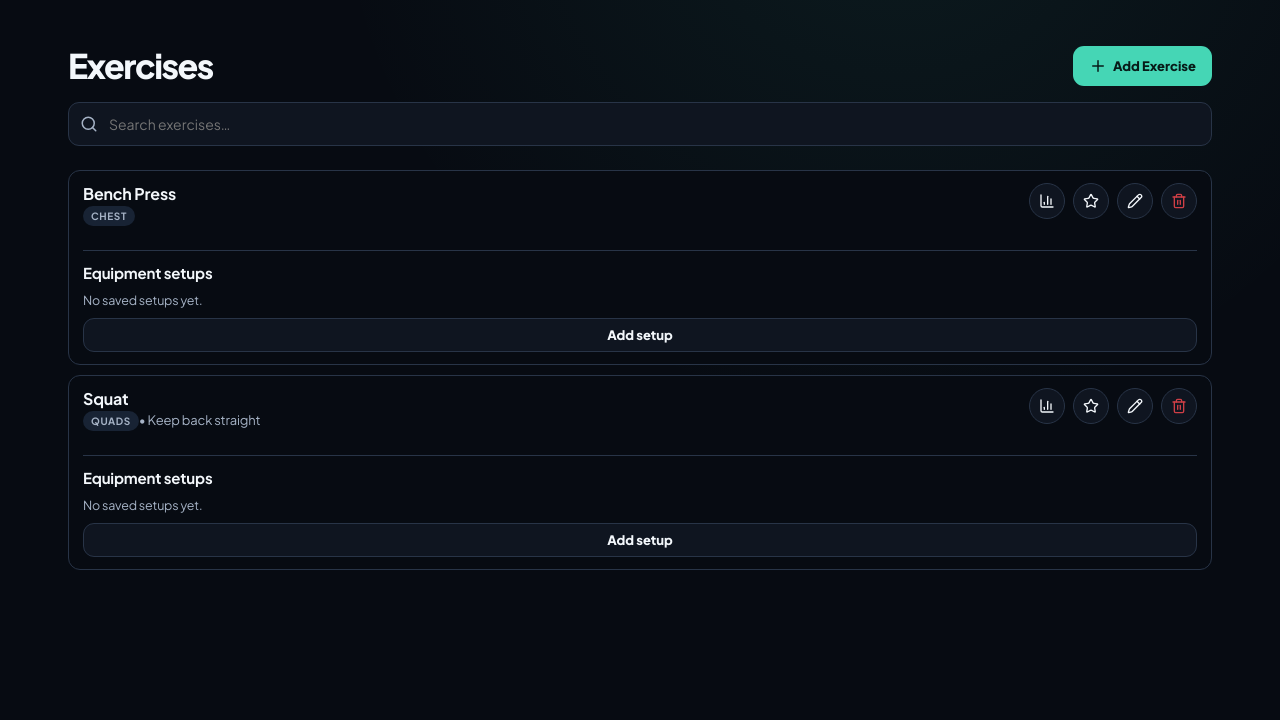
it: Exercises page › opens delete confirmation modal
Step 1. Click the button titled "Delete" in the row of "Bench Press" → (1179, 201), box [1161,183,1197,219]
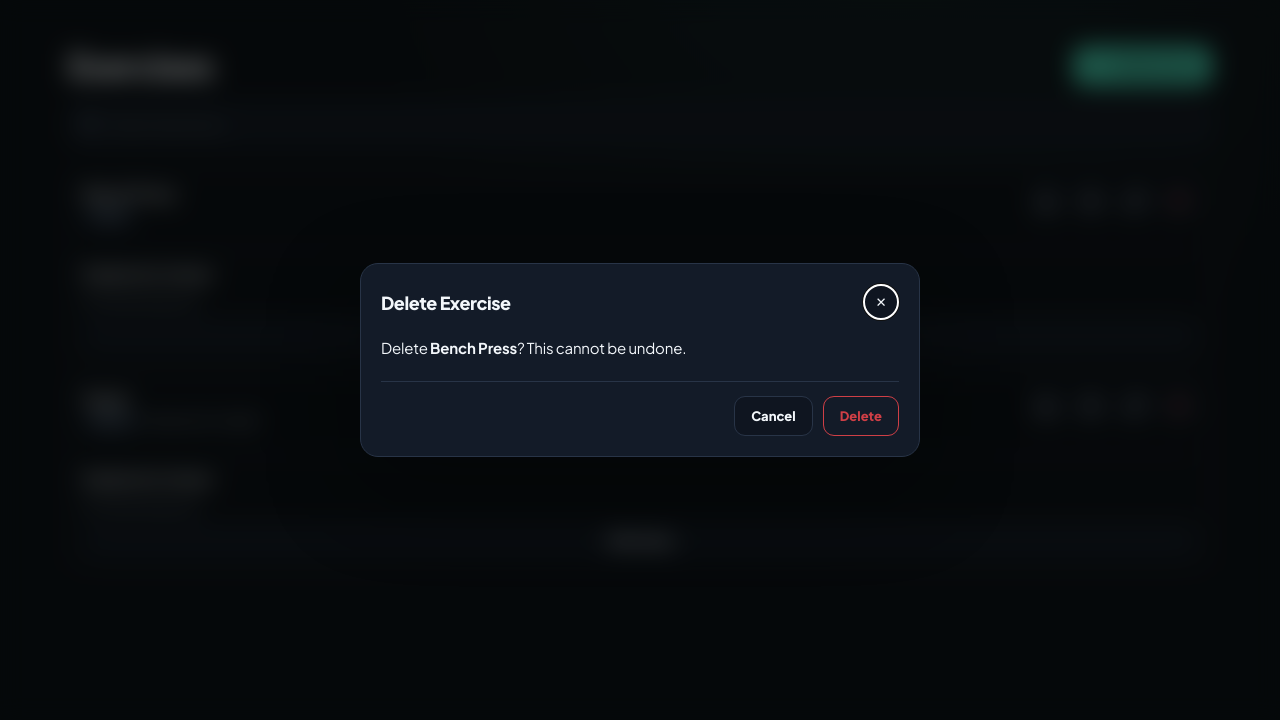
expect the heading "Delete Exercise" is shown: met, box [381,290,511,314]
expect the text "Delete Bench Press? This cannot be undone." is shown: met, box [381,338,686,357]
